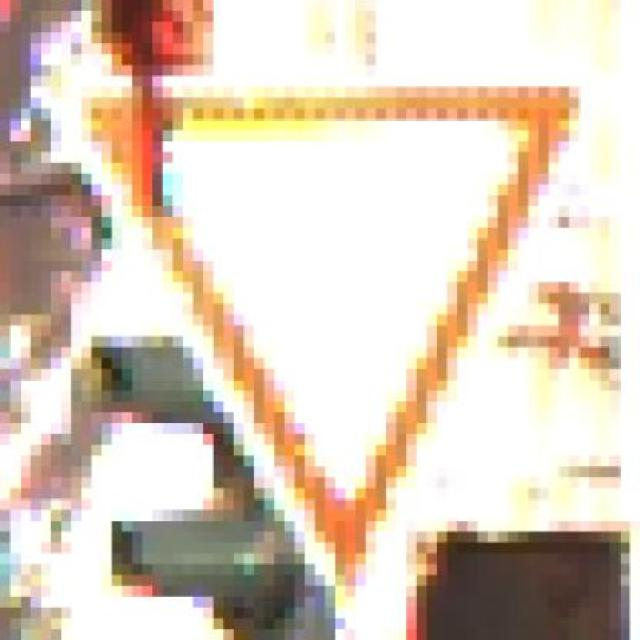Give Way: (71, 32, 620, 618)
